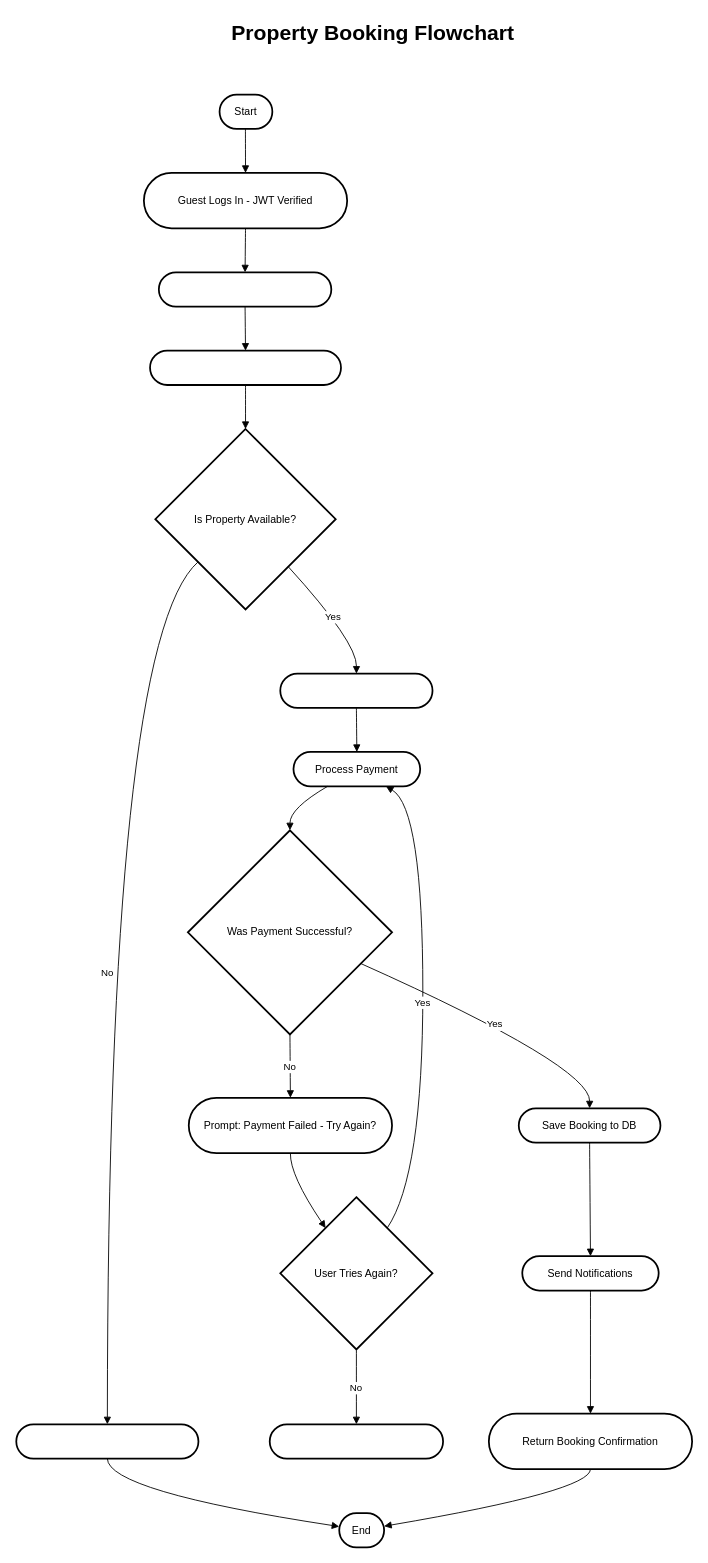
Some shapes in this 708 by 1563 pixel diagram are drawn without their labels. The centre of each missing label's shape, as x and y in pixels:
"Calculate Total Price" goes at pixel 356 690.
"Check Property Availability" goes at pixel 245 367.
"End - Booking Cancelled" goes at pixel 356 1441.
"Return Error: Unavailable" goes at pixel 107 1441.
"Submit Booking Request" goes at pixel 245 289.
